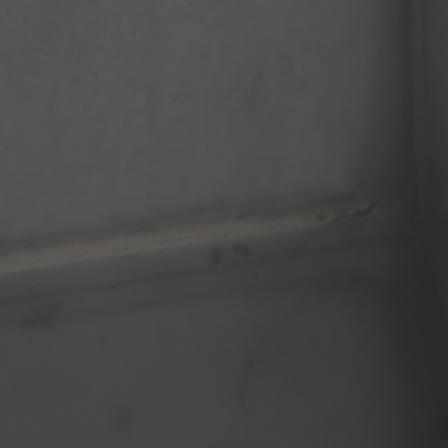Jentik-Nyamuk: (352, 199, 380, 222)
